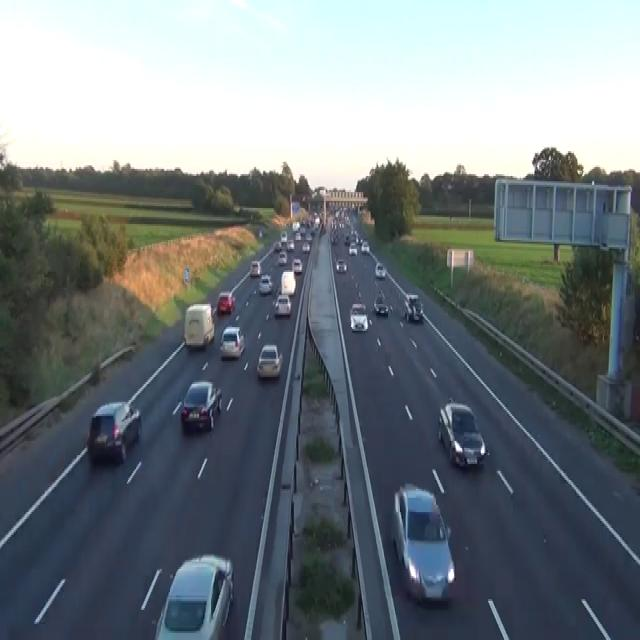Car: (391, 482, 455, 604), (154, 553, 234, 638), (437, 400, 488, 468), (86, 400, 141, 462), (180, 379, 222, 432), (183, 302, 214, 348), (256, 343, 283, 379), (219, 325, 245, 359), (404, 292, 423, 322), (349, 302, 368, 331), (216, 290, 235, 314), (280, 270, 296, 295), (373, 290, 389, 314), (274, 294, 291, 316), (258, 274, 272, 295), (374, 262, 386, 278), (249, 260, 261, 276), (335, 258, 347, 272), (292, 258, 302, 274), (278, 251, 287, 265), (376, 288, 385, 302), (361, 240, 370, 252), (348, 244, 357, 256), (301, 240, 310, 252), (330, 230, 338, 243), (286, 238, 294, 251), (273, 240, 281, 252), (280, 230, 287, 243), (343, 233, 350, 243), (292, 221, 299, 231), (320, 222, 326, 233), (314, 215, 320, 226), (305, 231, 312, 240), (355, 233, 361, 243), (299, 226, 305, 236), (345, 215, 350, 226), (295, 231, 301, 240), (258, 228, 262, 238)
